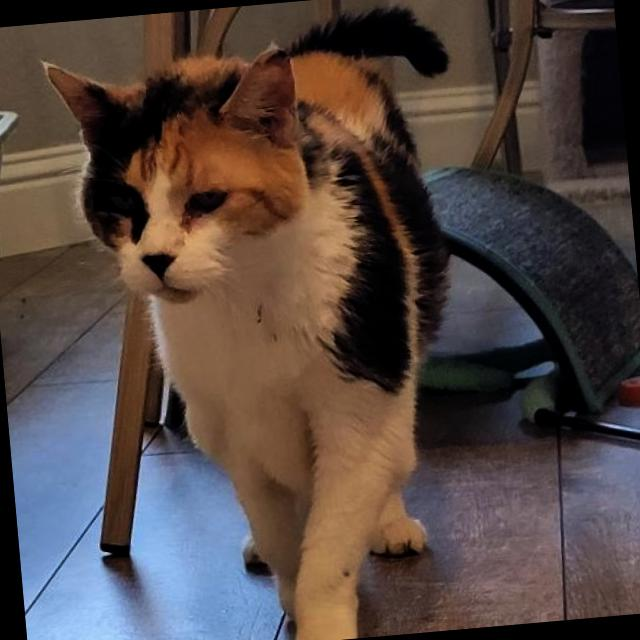calico_cat: (32, 30, 332, 338)
